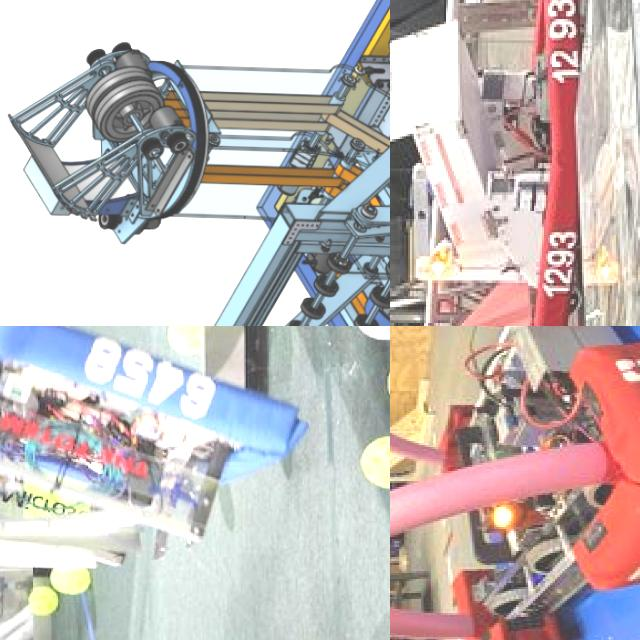FRC-Robots: (5, 0, 390, 326), (0, 326, 314, 629), (390, 326, 640, 640), (390, 0, 600, 326)
